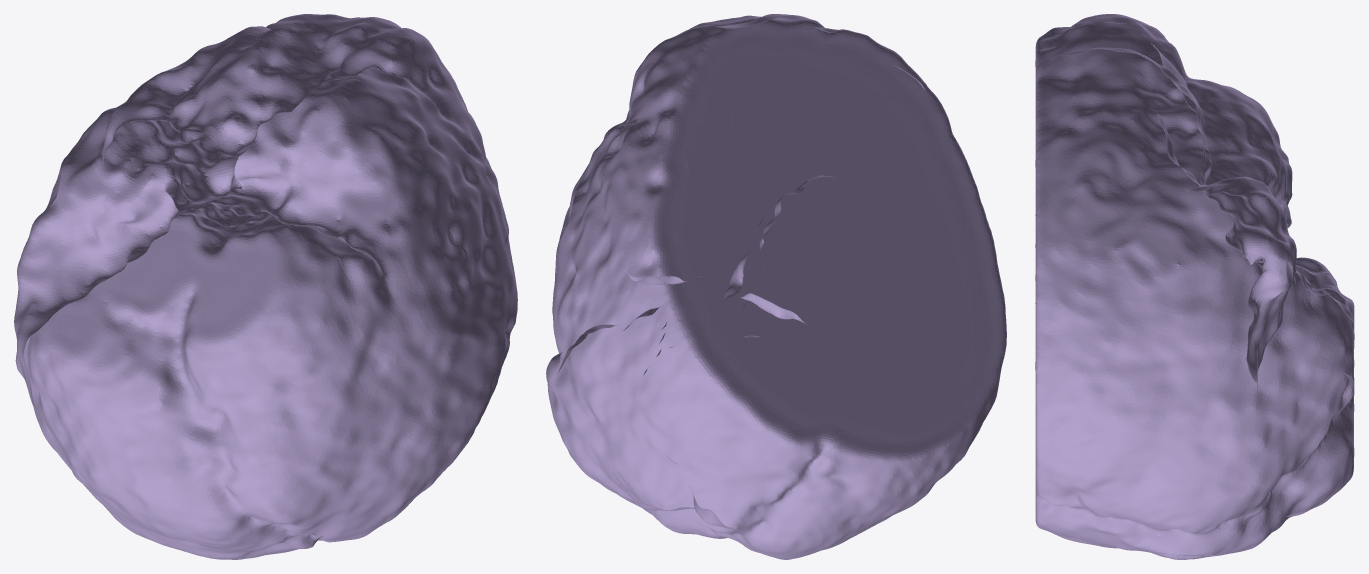
The model's file is brain.glb.
3 views of the same model, side by side, from view 1: azimuth 30°, elevation 25°; view 2: azimuth 150°, elevation 25°; view 3: azimuth 270°, elevation 25° (orthographic). The views are drawn at different scales.
Visible parts, largest first — view 1: world; view 2: world; view 3: world.
Part boxes in pixels (x1,y1,x2,y2): world: (14,14,517,559); world: (546,14,1006,559); world: (1035,14,1354,559).
Size of the model in its own units: 144 by 173 by 99.4.
